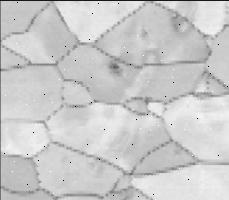good_void: (170, 0, 201, 37), (131, 27, 151, 42), (104, 58, 122, 73), (205, 79, 209, 84), (205, 85, 208, 89)
